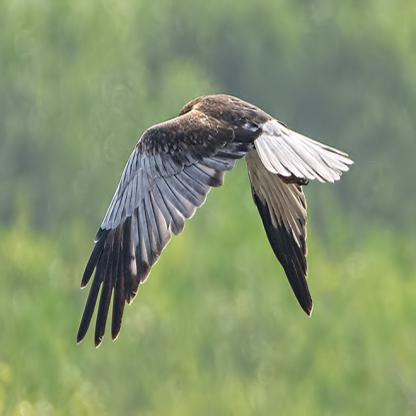Burung: (73, 93, 353, 348)
